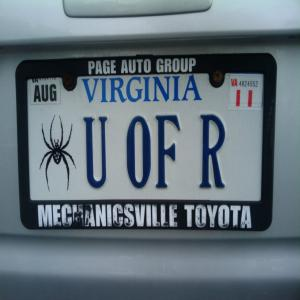Vehicle-registration-plate: (16, 53, 278, 232)
